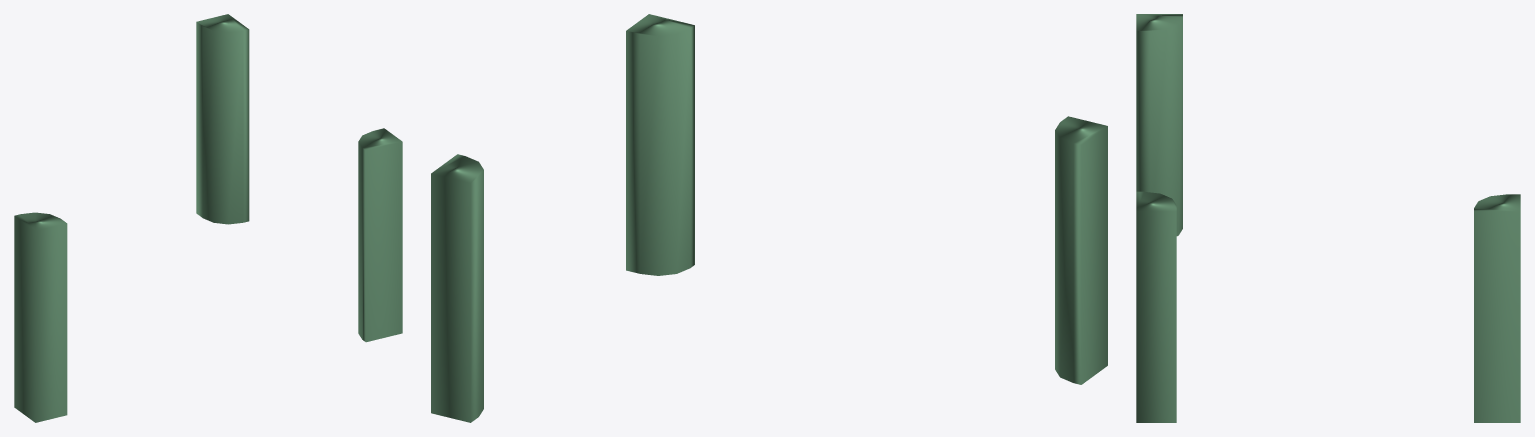
The model's file is MOD_BAR BarColumns.fbx.
3 renders of one model, left to right at view 1: azimuth 30°, elevation 25°; view 2: azimuth 150°, elevation 25°; view 3: azimuth 270°, elevation 25°, orthographic. The views are drawn at different scales.
Parts seen in each view (by area): view 1: Columns; view 2: Columns; view 3: Columns.
Part boxes in pixels (x1,y1,x2,y2): Columns: (14,14,402,422); Columns: (431,14,1107,422); Columns: (1136,14,1520,422).
Size of the model in its own units: 590 by 295 by 485.
